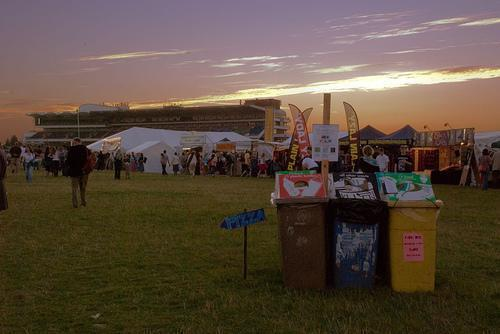Bote de Basura: (379, 168, 436, 294), (270, 169, 326, 287), (324, 173, 379, 284)
